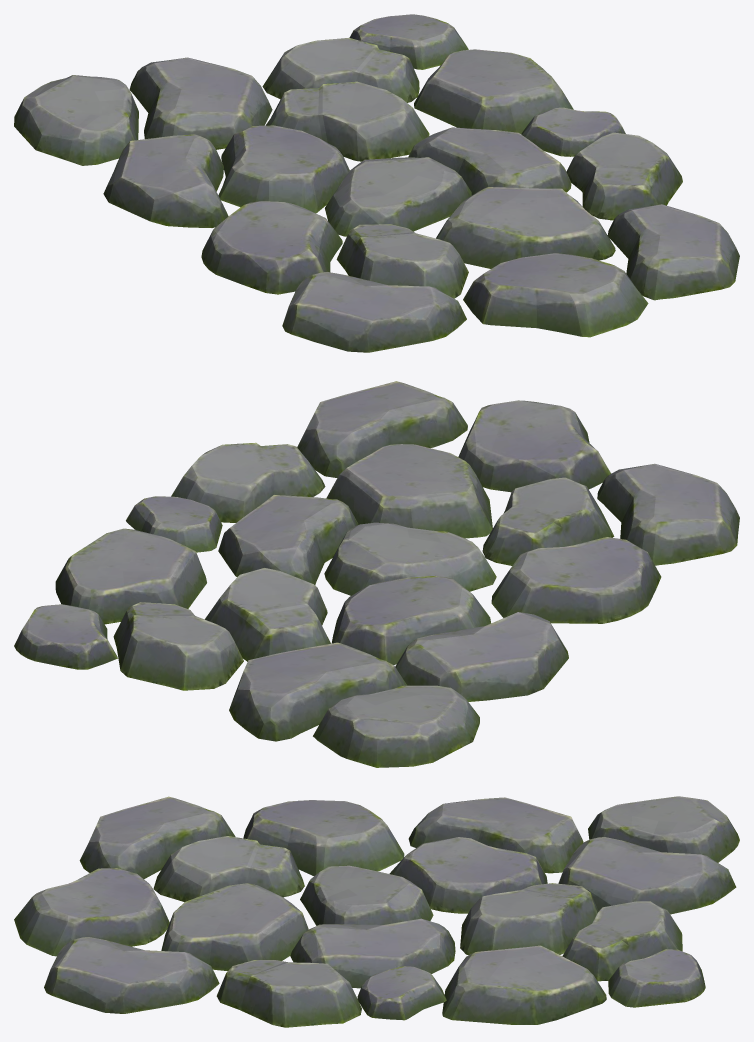
Rendered from RockPath_Round_Thin.glb.
3 renders of one model, top to bottom at view 1: azimuth 30°, elevation 25°; view 2: azimuth 150°, elevation 25°; view 3: azimuth 270°, elevation 25°, orthographic. The views are drawn at different scales.
Size of the model in its own units: 1.46 by 0.1103 by 2.09.
1 material, 1 textured.
